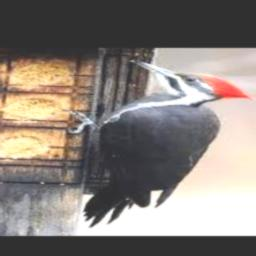Woodpecker: (66, 60, 256, 227)
